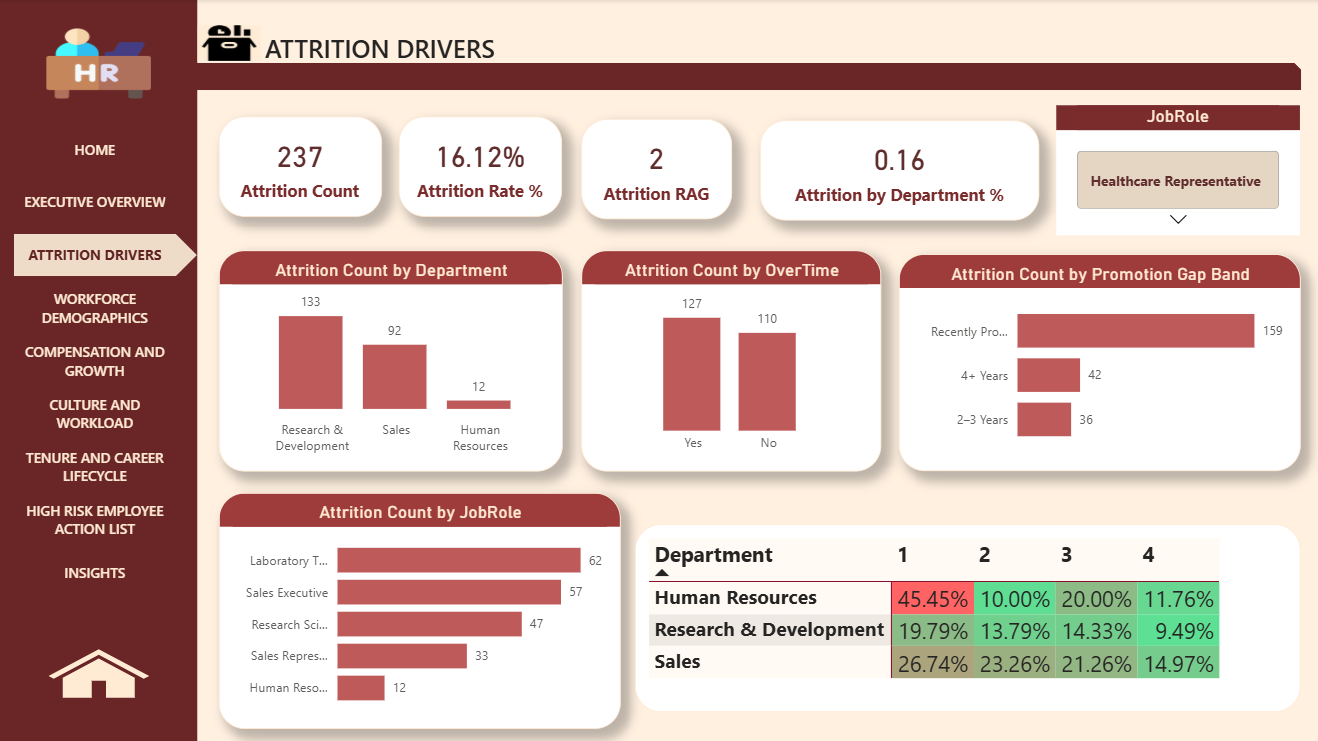

The page's visual inventory and layout, read from the dashboard file:
{"tool":"powerbi","page":{"name":"ATTRITION DRIVERS","canvas":[1280,720],"ordinal":2},"visuals":[{"type":"clusteredColumnChart","fields":{"Category":["Attrition.Department"],"Y":["Attrition.Attrition Count"]},"box":[210.6,242.4,331.8,213.5],"z":0},{"type":"clusteredBarChart","fields":{"Category":["Attrition.JobRole"],"Y":["Attrition.Attrition Count"]},"box":[210.6,476.1,388.1,228],"z":1000},{"type":"columnChart","fields":{"Category":["Attrition.OverTime"],"Y":["Attrition.Attrition Count"]},"box":[561.2,242.4,290,213.5],"z":2000},{"type":"pivotTable","fields":{"Rows":["Attrition.Department"],"Values":["Attrition.Attrition Rate %"],"Columns":["Attrition.JobSatisfaction"]},"box":[613.2,506.4,642,181.8],"z":3000},{"type":"shape","box":[0,0,190.4,720.8],"z":4000},{"type":"shape","box":[0,61.5,1255.9,26.5],"z":5000},{"type":"textbox","box":[194.8,26,344.8,43.3],"z":6000},{"type":"card","fields":{"Values":["Attrition.Attrition Count"]},"box":[210.6,114,157.3,96.7],"z":7000},{"type":"card","fields":{"Values":["Attrition.Attrition Rate %"]},"box":[385.2,114,157.3,96.7],"z":8000},{"type":"card","fields":{"Values":["Attrition.Attrition RAG"]},"box":[561.2,115.4,145.7,96.7],"z":9000},{"type":"card","fields":{"Values":["Attrition.Attrition by Department %"]},"box":[732.9,116.9,269.8,96.7],"z":10000},{"type":"clusteredBarChart","fields":{"Category":["Attrition.Promotion Gap Band"],"Y":["Attrition.Attrition Count"]},"box":[867.1,246.7,388.1,209.2],"z":11000},{"type":"advancedSlicerVisual","fields":{"Values":["Attrition.JobRole"]},"box":[1020,102.4,235.2,125.5],"z":12000},{"type":"pageNavigator","box":[13,124.1,177.5,455.9],"z":14000},{"type":"image","box":[27.4,26,134.2,72.1],"z":14001},{"type":"image","box":[190.4,23.1,60.6,39],"z":14002},{"type":"image","box":[40.4,618.9,111.1,63.5],"z":14003}]}

Visuals, with their boxes in screenshot pixels (x1, y1, x2, y2), scaled from the page's 1280x720 canvas onto the 1318x741 screenshot:
clusteredColumnChart - Attrition.Department x Attrition.Attrition Count: <region>217, 249, 559, 469</region>
clusteredBarChart - Attrition.JobRole x Attrition.Attrition Count: <region>217, 490, 616, 725</region>
columnChart - Attrition.OverTime x Attrition.Attrition Count: <region>578, 249, 876, 469</region>
pivotTable - Attrition.Department x Attrition.Attrition Rate %: <region>631, 521, 1292, 708</region>
shape: <region>0, 0, 196, 740</region>
shape: <region>0, 63, 1293, 91</region>
textbox: <region>201, 27, 556, 71</region>
card - Attrition.Attrition Count: <region>217, 117, 379, 217</region>
card - Attrition.Attrition Rate %: <region>397, 117, 559, 217</region>
card - Attrition.Attrition RAG: <region>578, 119, 728, 218</region>
card - Attrition.Attrition by Department %: <region>755, 120, 1032, 220</region>
clusteredBarChart - Attrition.Promotion Gap Band x Attrition.Attrition Count: <region>893, 254, 1292, 469</region>
advancedSlicerVisual - Attrition.JobRole: <region>1050, 105, 1292, 235</region>
pageNavigator: <region>13, 128, 196, 597</region>
image: <region>28, 27, 166, 101</region>
image: <region>196, 24, 258, 64</region>
image: <region>42, 637, 156, 702</region>
